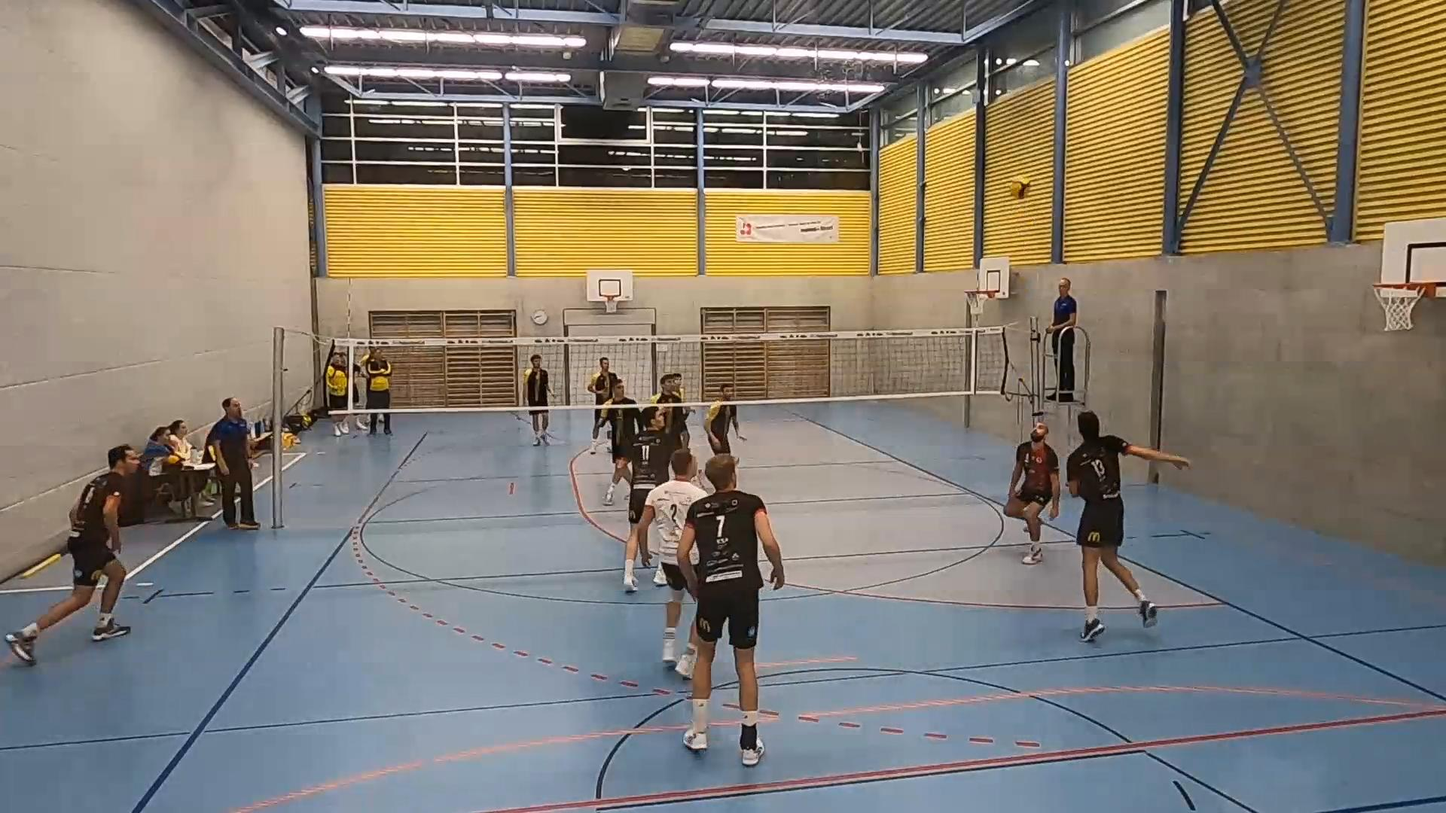Dig: (1057, 410, 1193, 645)
Player: (676, 455, 784, 766), (5, 445, 139, 665), (634, 449, 706, 677), (624, 408, 673, 592), (1004, 422, 1060, 565), (599, 380, 640, 505), (587, 357, 619, 453), (704, 382, 746, 454), (651, 373, 689, 448), (651, 373, 687, 446), (523, 354, 550, 445)
